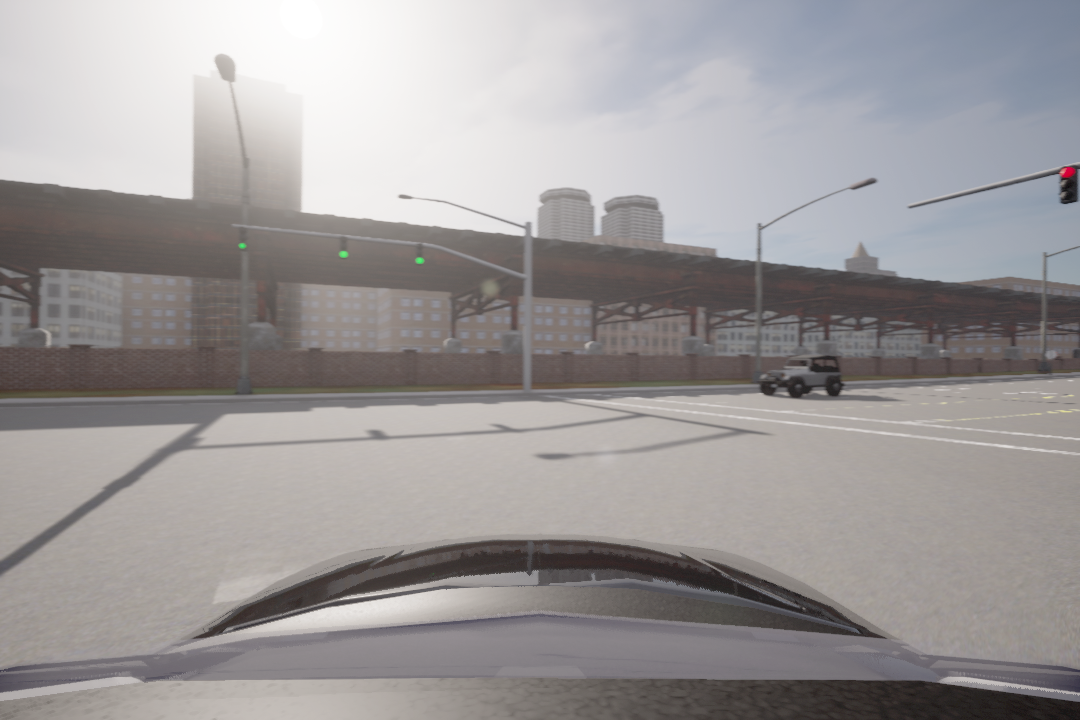TrafficLight: (1060, 165, 1077, 207), (235, 225, 249, 254), (337, 234, 350, 261), (413, 242, 426, 267)
